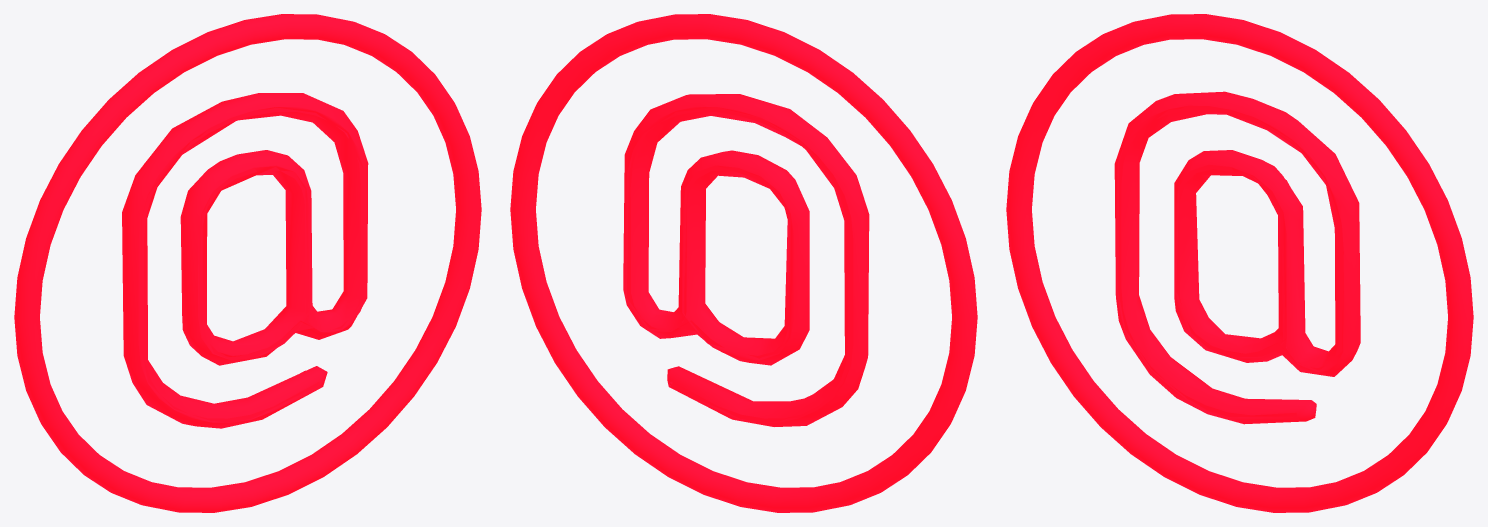
The model's file is contact.glb.
3 renders of one model, left to right at view 1: azimuth 30°, elevation 25°; view 2: azimuth 150°, elevation 25°; view 3: azimuth 330°, elevation 25°, orthographic.
Parts seen in each view (by area): view 1: BezierCircle, Text; view 2: BezierCircle, Text; view 3: BezierCircle, Text.
Part boxes in pixels (bbox=[...]): BezierCircle: bbox=[14, 14, 481, 512]; Text: bbox=[122, 93, 368, 428]; BezierCircle: bbox=[510, 14, 977, 512]; Text: bbox=[623, 94, 869, 426]; BezierCircle: bbox=[1006, 14, 1473, 512]; Text: bbox=[1114, 91, 1360, 424].
Bounding box in the file's own units: 3.31 × 3.31 × 0.2012.
